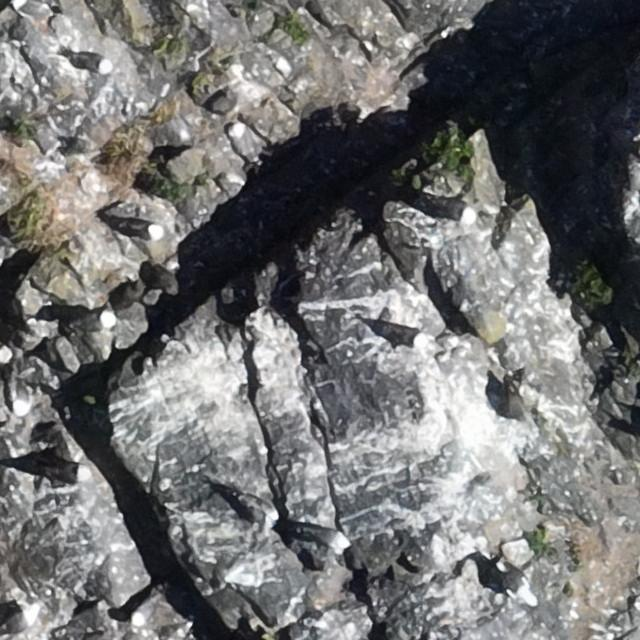umineko: (371, 320, 433, 353), (228, 486, 279, 523), (500, 564, 539, 612), (229, 119, 262, 170), (430, 198, 478, 228), (8, 365, 33, 416), (42, 457, 92, 482), (8, 599, 43, 628), (132, 596, 162, 628), (67, 55, 114, 74), (71, 311, 117, 330), (119, 221, 159, 240), (304, 529, 344, 548), (14, 0, 50, 15)
